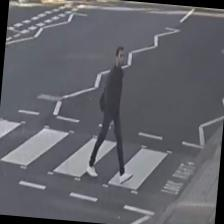person: (84, 43, 144, 184)
